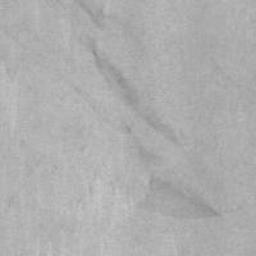Water spot: (41, 0, 184, 151), (0, 0, 127, 131), (137, 172, 221, 220)
